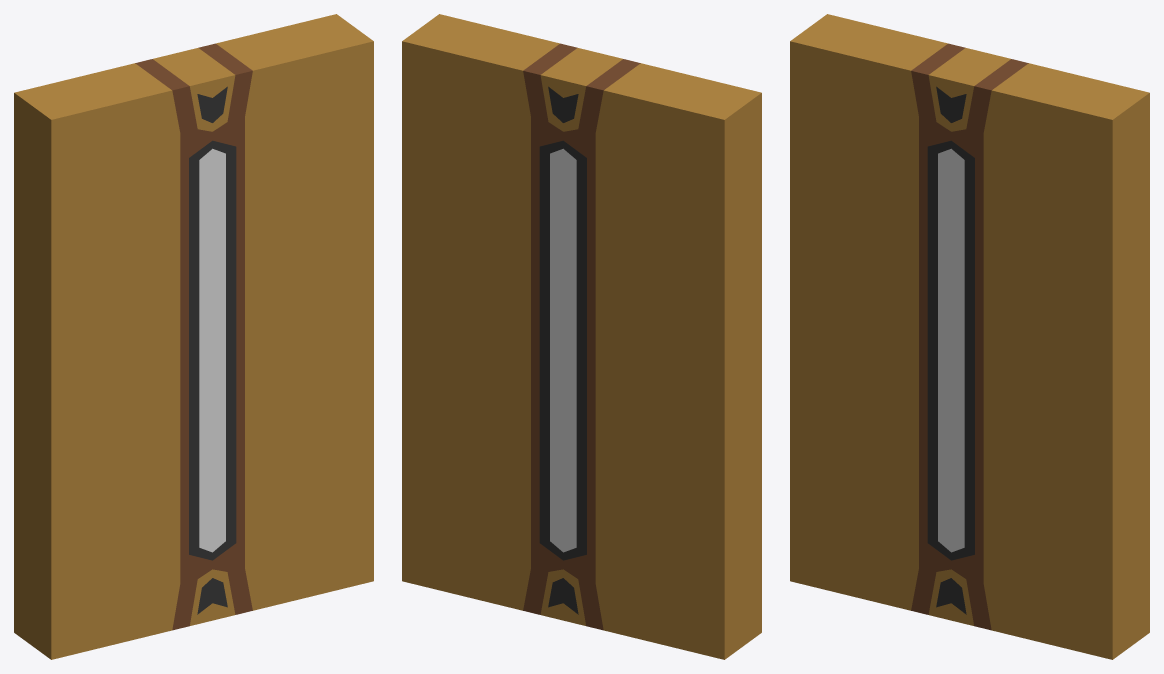
File: DecoWallBasic.fbx
The picture shows the model from 3 angles, left to right: view 1: azimuth 30°, elevation 25°; view 2: azimuth 150°, elevation 25°; view 3: azimuth 330°, elevation 25°; orthographic projection.
Parts seen in each view (by area): view 1: Cube; view 2: Cube; view 3: Cube.
Part boxes in pixels (<box>): Cube: <box>14,14,373,659</box>; Cube: <box>402,14,761,659</box>; Cube: <box>790,14,1149,659</box>.
Bounding box in the file's own units: 100 × 160 × 20.
